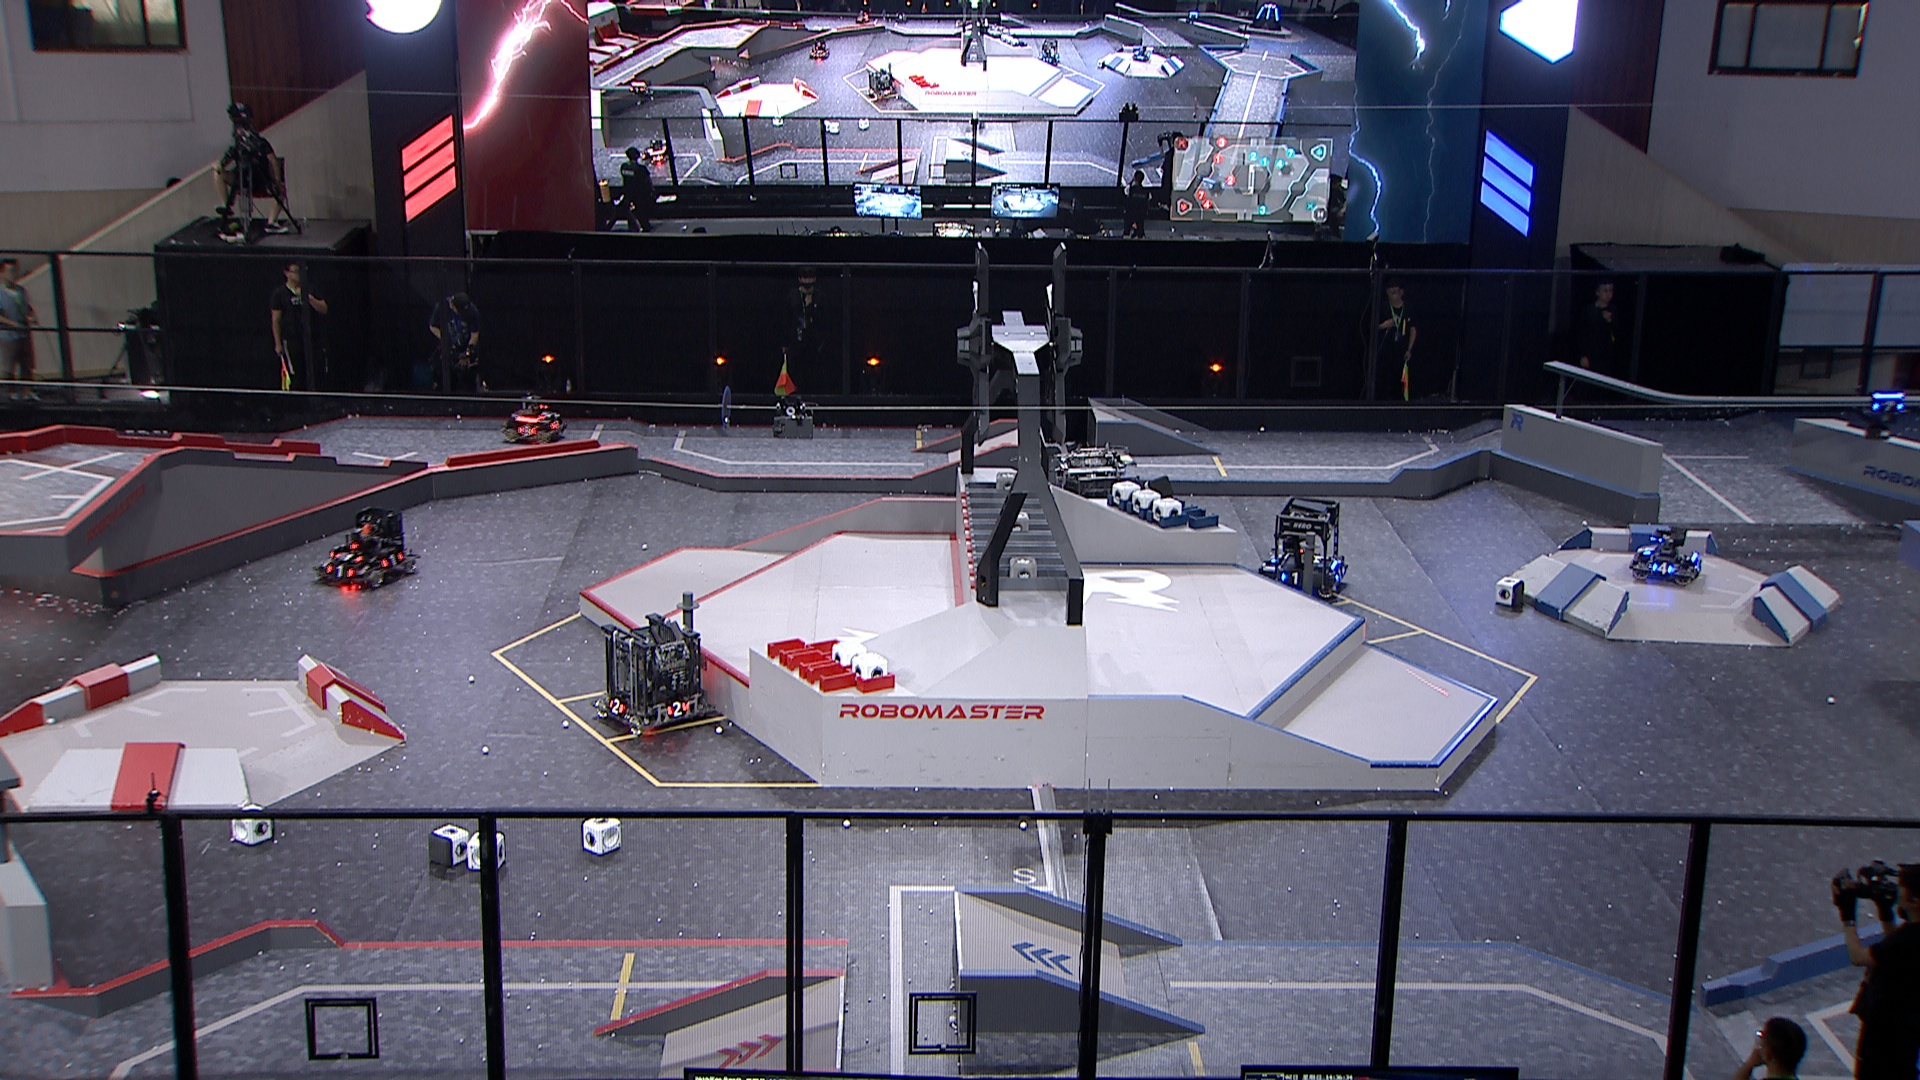armor: (666, 698, 688, 717), (334, 549, 359, 564), (381, 550, 404, 567), (1650, 559, 1673, 575), (1874, 400, 1903, 411), (1280, 568, 1302, 584), (327, 564, 352, 578), (516, 425, 534, 438), (609, 699, 624, 713), (1638, 543, 1654, 556), (550, 417, 562, 431), (1335, 564, 1344, 582), (539, 410, 555, 419)
car: (589, 616, 713, 737), (1254, 495, 1352, 605), (1048, 434, 1145, 541), (316, 504, 419, 591), (1627, 520, 1705, 589), (501, 392, 570, 450)
ignore: (861, 63, 899, 102), (638, 133, 673, 164), (1250, 0, 1283, 30), (1033, 34, 1063, 67), (626, 76, 655, 105), (807, 36, 831, 59), (1183, 7, 1203, 29), (1131, 45, 1153, 65), (851, 11, 873, 24)
watcher: (1859, 385, 1912, 440)
